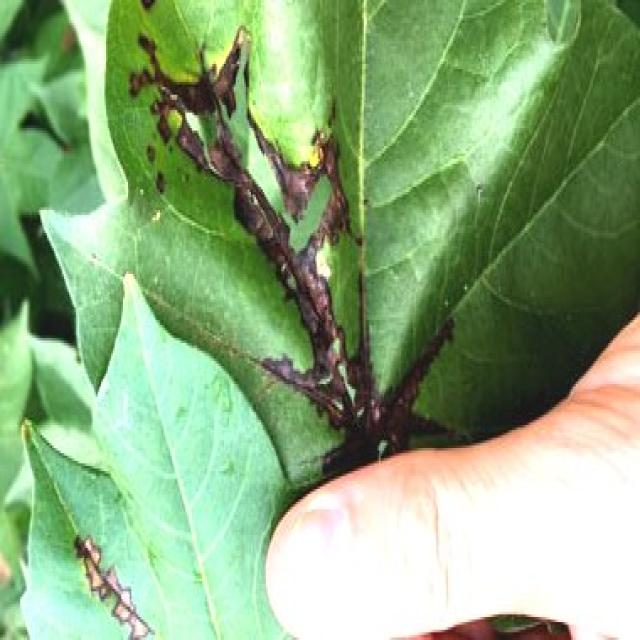Bacterial Blight: (134, 31, 410, 453)
